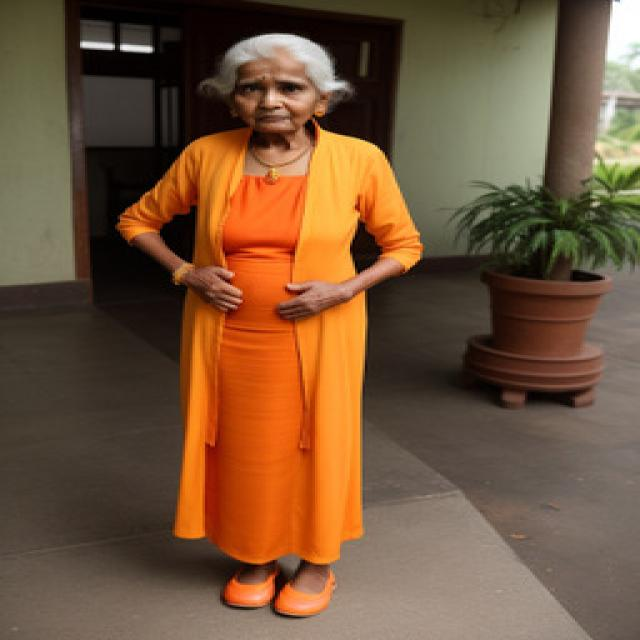Ai human 2: (96, 28, 438, 624)
